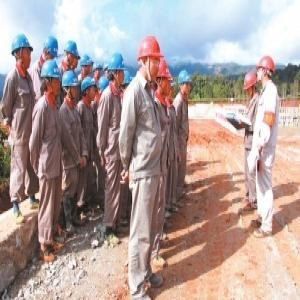blue: (11, 33, 33, 72), (41, 57, 61, 96), (108, 53, 125, 89), (62, 69, 79, 100), (42, 36, 59, 64), (81, 77, 97, 104), (63, 39, 78, 67), (178, 69, 192, 97), (80, 54, 93, 76)
red: (138, 36, 161, 84), (256, 57, 276, 88), (158, 59, 168, 95), (244, 74, 257, 101)
